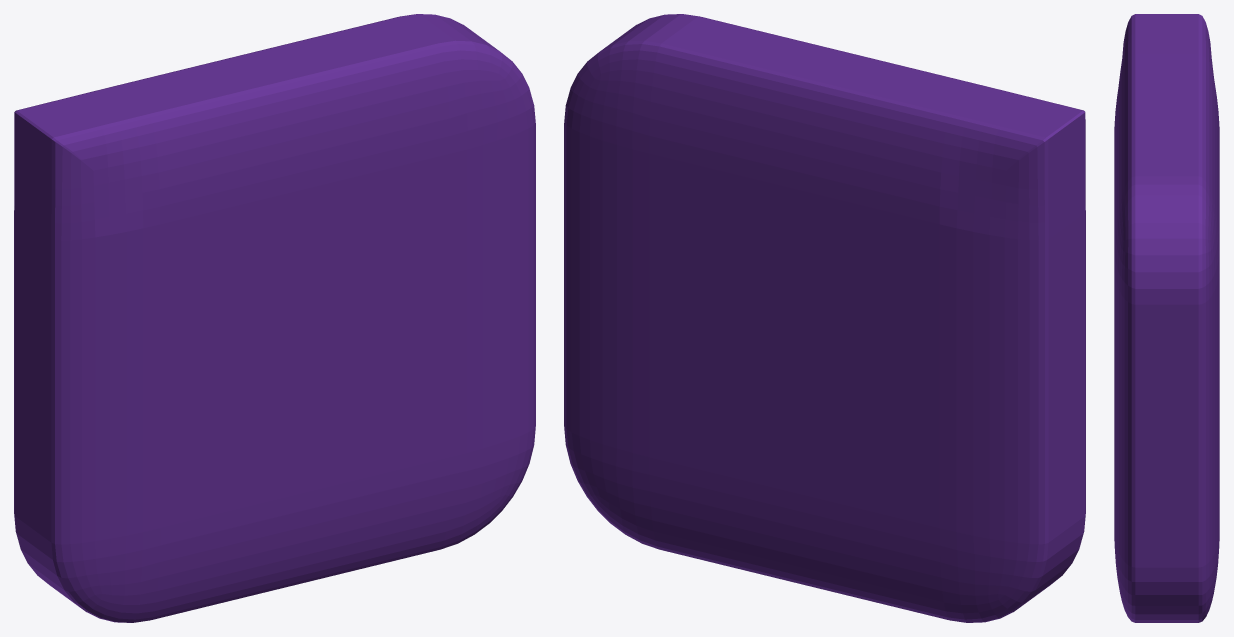
Rendered from CSS.glb.
The picture shows the model from 3 angles, left to right: view 1: azimuth 30°, elevation 25°; view 2: azimuth 150°, elevation 25°; view 3: azimuth 270°, elevation 25°; orthographic projection. The views are drawn at different scales.
Parts seen in each view (by area): view 1: cssbg; view 2: cssbg; view 3: cssbg.
Boxes of the visible parts, x1,y1,x2,y2 form: cssbg: [14, 14, 535, 622]; cssbg: [564, 14, 1085, 622]; cssbg: [1114, 14, 1219, 622].
Bounding box in the file's own units: 2.16 × 2.16 × 0.472.
